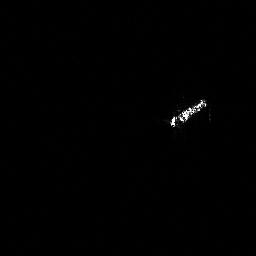ship: (166, 92, 210, 130)
